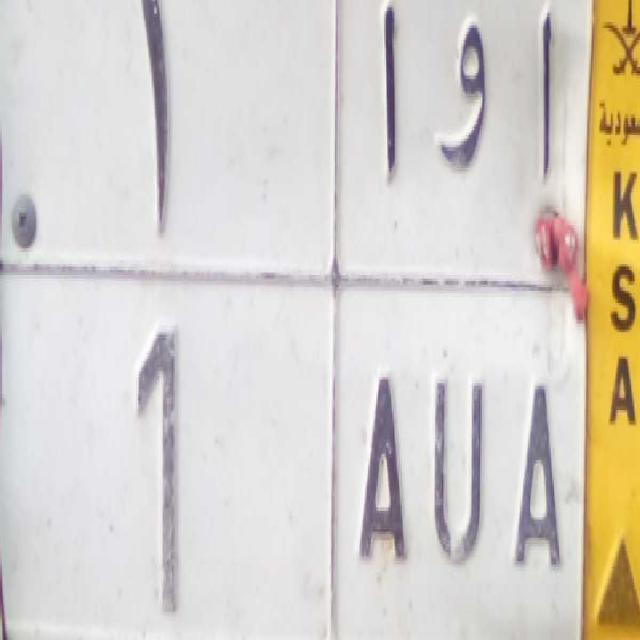license_plate: (0, 257, 584, 640)
